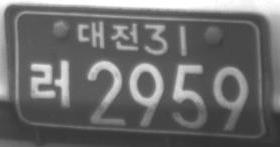1: (171, 24, 194, 57)
2: (86, 58, 127, 127)
3: (141, 22, 169, 56)
5: (169, 62, 209, 131)
9: (211, 64, 250, 131), (128, 60, 165, 129)
대전_O: (77, 19, 140, 52)
러: (28, 58, 71, 110)
